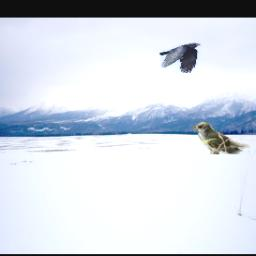Crow: (159, 43, 200, 74)
Cuckoo: (192, 121, 249, 154)
